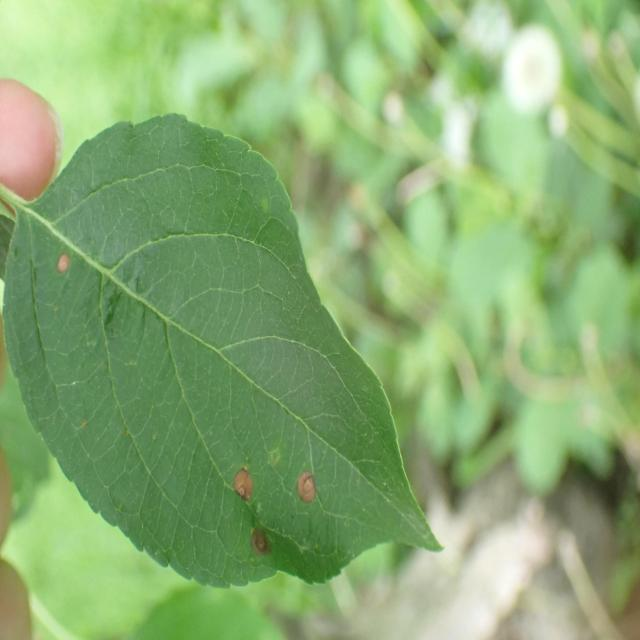Black Rot: (220, 440, 262, 520), (50, 230, 86, 307), (286, 452, 322, 524), (244, 510, 282, 570), (278, 569, 278, 570)
